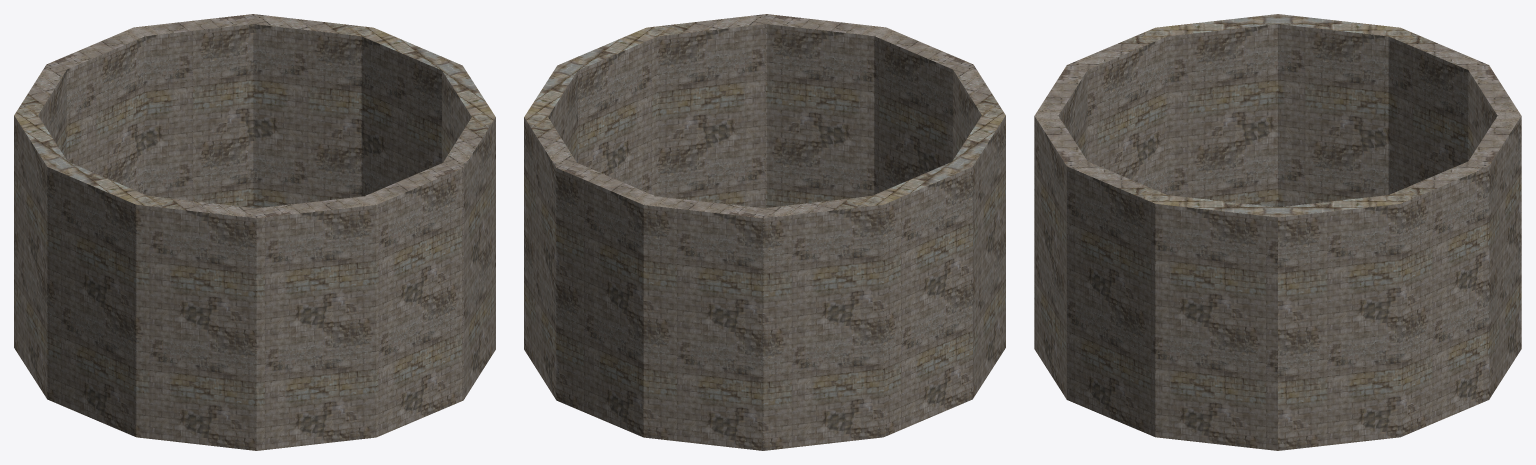
File: wall2.fbx
3 views of the same model, side by side, from view 1: azimuth 30°, elevation 25°; view 2: azimuth 150°, elevation 25°; view 3: azimuth 270°, elevation 25° (orthographic).
Visible parts, largest first — view 1: LV_Nigraturis_Floor03A_SM_HSH; view 2: LV_Nigraturis_Floor03A_SM_HSH; view 3: LV_Nigraturis_Floor03A_SM_HSH.
Boxes of the visible parts, bbox=[...] form: LV_Nigraturis_Floor03A_SM_HSH: bbox=[14, 14, 495, 450]; LV_Nigraturis_Floor03A_SM_HSH: bbox=[524, 14, 1005, 450]; LV_Nigraturis_Floor03A_SM_HSH: bbox=[1034, 14, 1521, 450].
Bounding box in the file's own units: 12.18 × 6.52 × 12.32.
